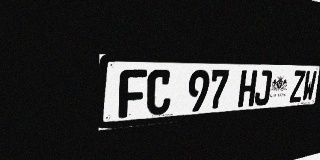7: (207, 70, 229, 110)
9: (187, 70, 210, 112)
C: (146, 69, 172, 116)
F: (119, 69, 147, 118)
H: (238, 70, 257, 107)
J: (254, 70, 273, 106)
W: (301, 70, 317, 102)
Z: (289, 70, 306, 103)
